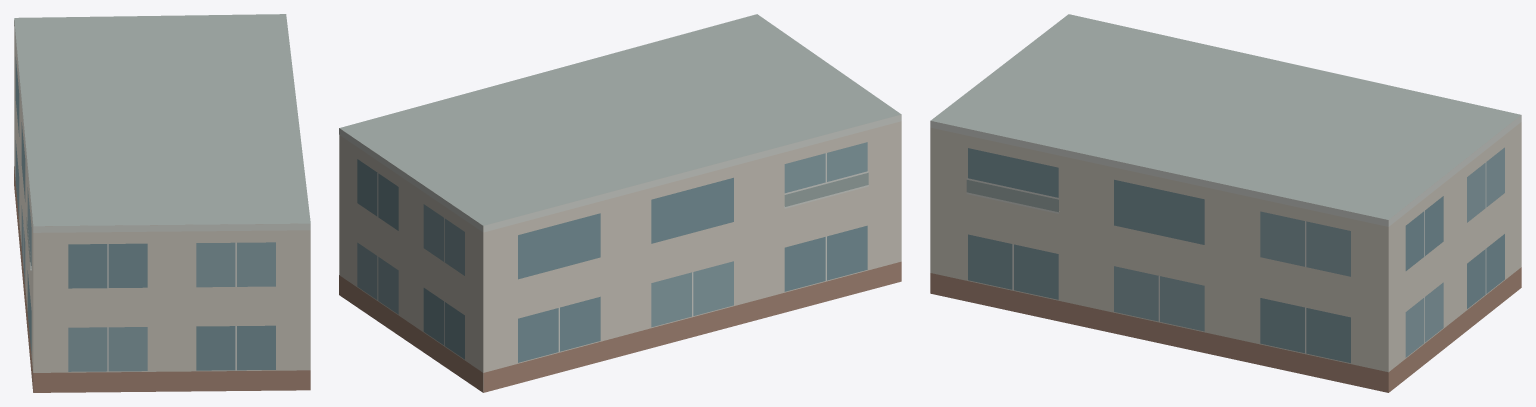
Rendered from survey-upis-32842787.glb.
3 views of the same model, side by side, from view 1: azimuth 30°, elevation 25°; view 2: azimuth 150°, elevation 25°; view 3: azimuth 270°, elevation 25° (orthographic). The views are drawn at different scales.
Visible parts, largest first — view 1: survey-upis-32842787.tmp; view 2: survey-upis-32842787.tmp; view 3: survey-upis-32842787.tmp.
Part boxes in pixels (bbox=[...]): survey-upis-32842787.tmp: bbox=[14, 14, 310, 392]; survey-upis-32842787.tmp: bbox=[339, 14, 901, 392]; survey-upis-32842787.tmp: bbox=[930, 14, 1521, 392].
Bounding box in the file's own units: 15.6 × 6.1 × 18.92.
